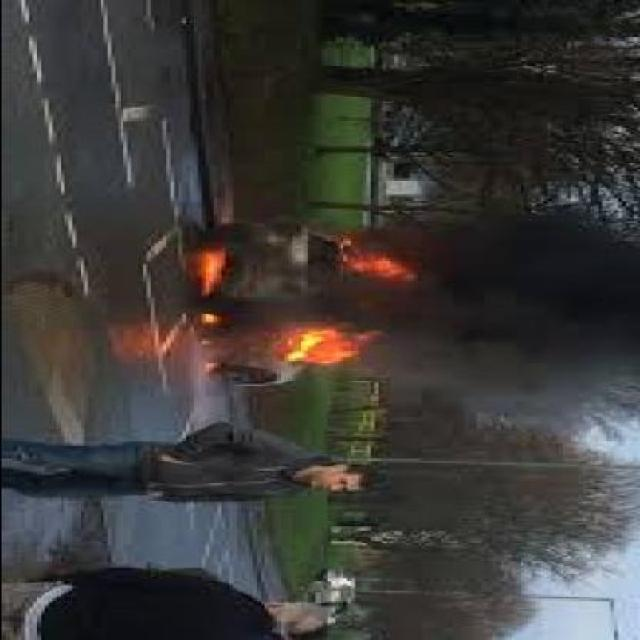Fire: (268, 324, 382, 371), (336, 242, 413, 282), (190, 244, 238, 304)
Smoke: (418, 212, 640, 400)
